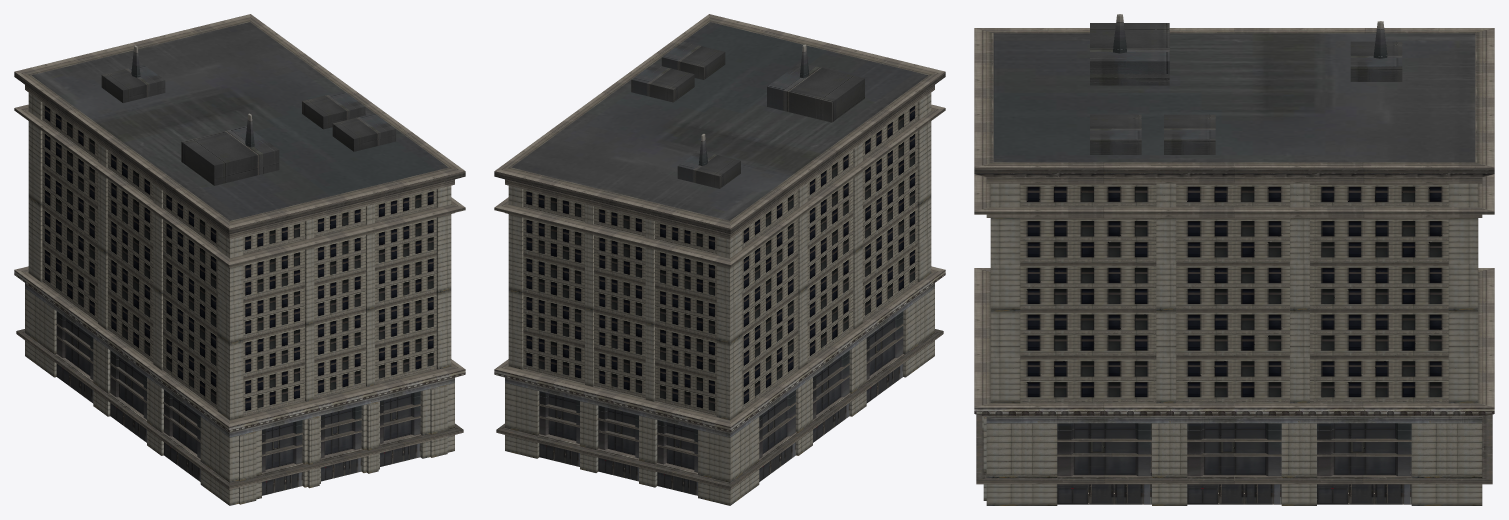
The model's file is Downtown_ModernOffice_5_B.fbx.
3 views of the same model, side by side, from view 1: azimuth 30°, elevation 25°; view 2: azimuth 150°, elevation 25°; view 3: azimuth 270°, elevation 25° (orthographic). The views are drawn at different scales.
Visible parts, largest first — view 1: Downtown_ModernOffice_5_B; view 2: Downtown_ModernOffice_5_B; view 3: Downtown_ModernOffice_5_B.
Part boxes in pixels (<box>): Downtown_ModernOffice_5_B: <box>14,14,465,505</box>; Downtown_ModernOffice_5_B: <box>494,14,945,505</box>; Downtown_ModernOffice_5_B: <box>974,14,1494,505</box>.
Bounding box in the file's own units: 4818 × 6480 × 7586.
Materials: 2 (2 with a texture image).
